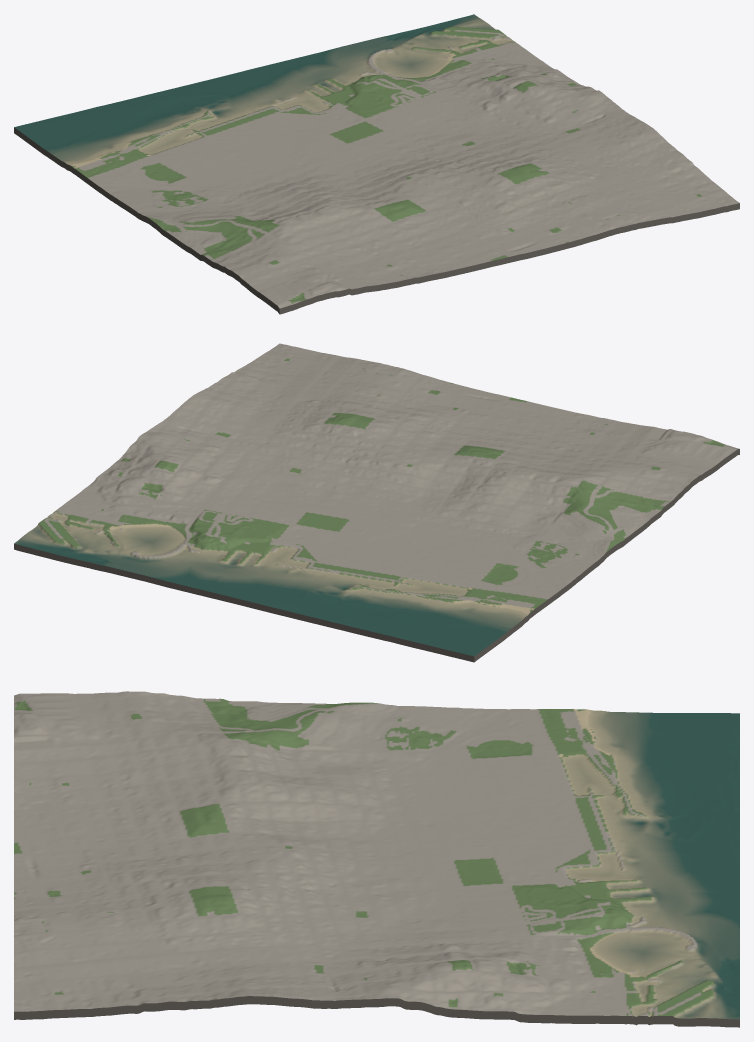
File: terrain_2_2.glb
3 views of the same model, one above another, from view 1: azimuth 30°, elevation 25°; view 2: azimuth 150°, elevation 25°; view 3: azimuth 270°, elevation 25° (orthographic). The views are drawn at different scales.
Visible parts, largest first — view 1: terrain_2_2; view 2: terrain_2_2; view 3: terrain_2_2.
Boxes of the visible parts, box(x1,y1,x2,y2) form: terrain_2_2: box(14, 14, 739, 314); terrain_2_2: box(14, 343, 739, 662); terrain_2_2: box(14, 691, 739, 1027).
Bounding box in the file's own units: 3200 × 175 × 3200.
